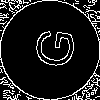G: (25, 25, 77, 71)
